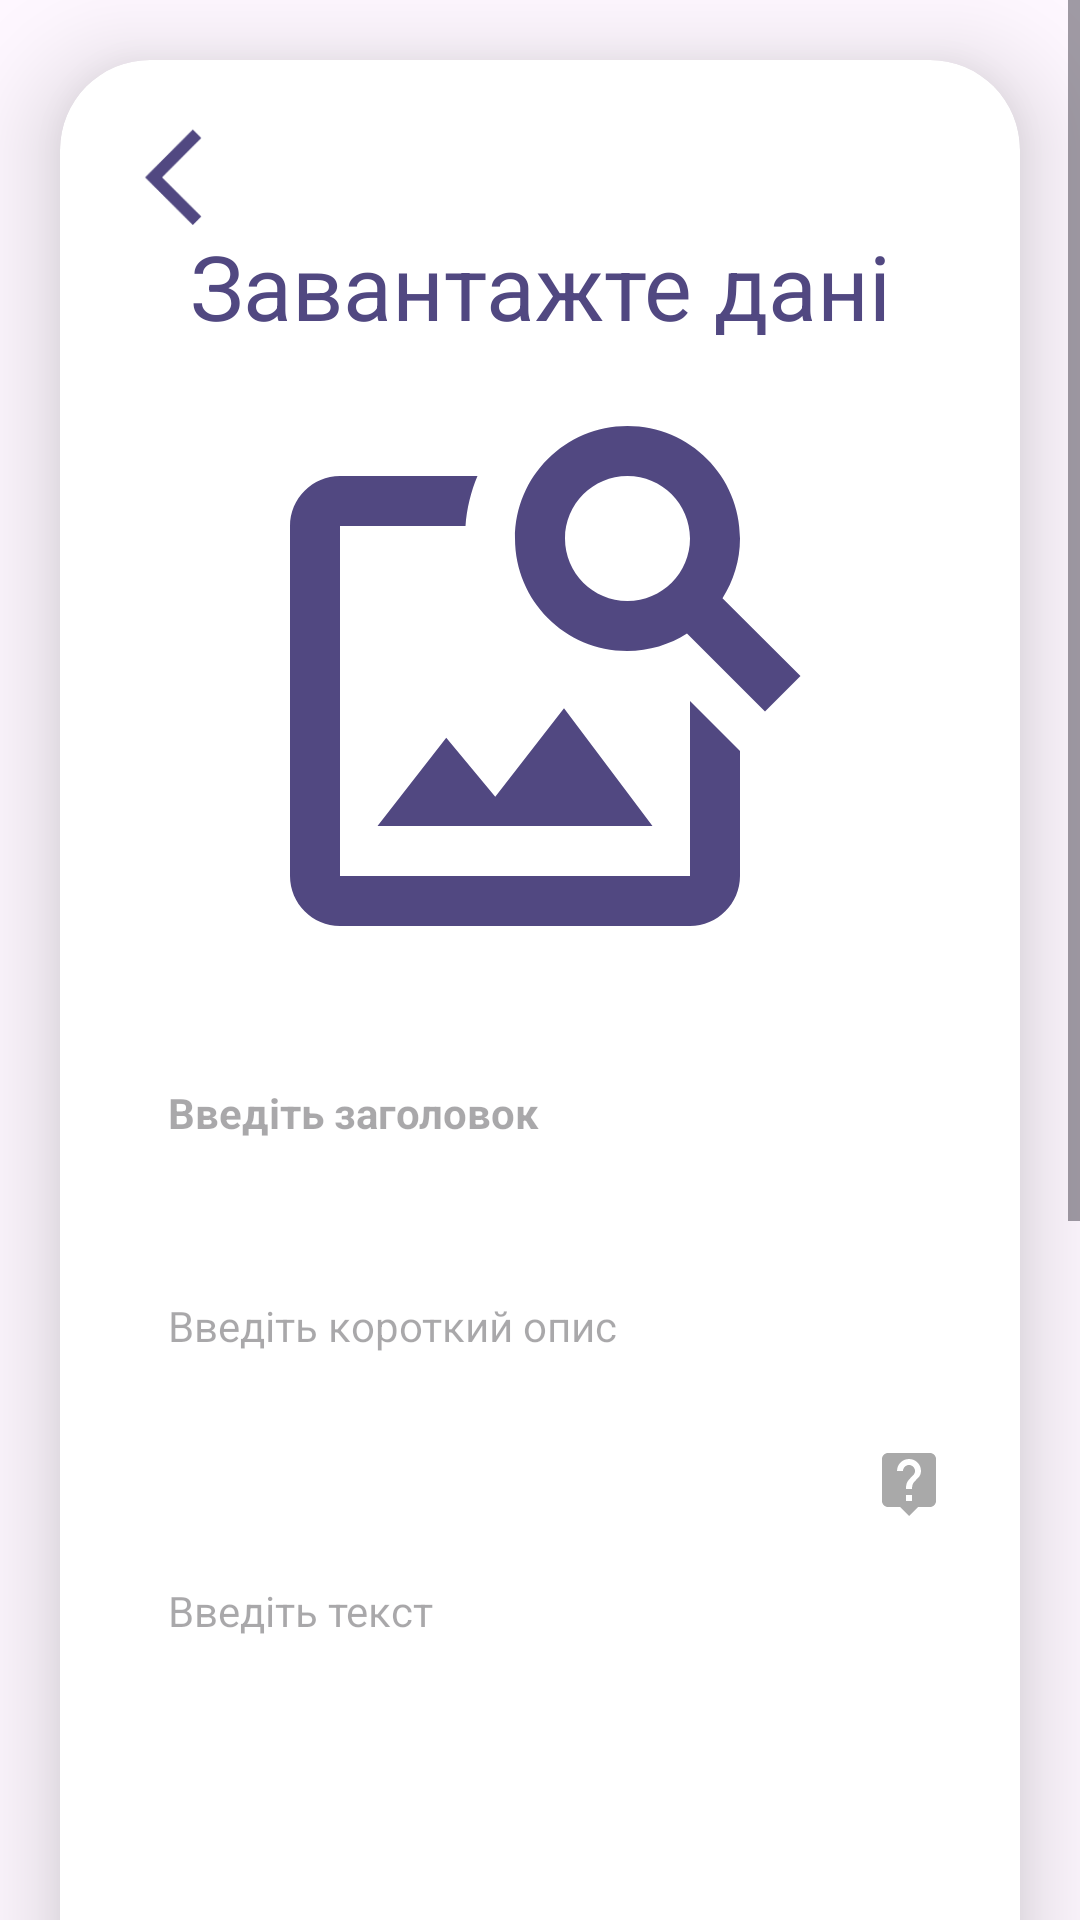

Icons on this 1080w x 1920h Android screen, each with the point to tap as point (x, y):
arrow back baseline: point (173, 177)
live help: point (909, 1484)
